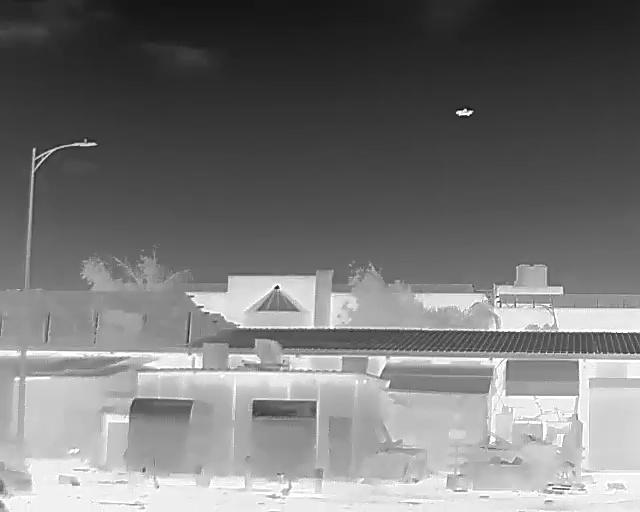fpv-drone: (456, 108, 473, 116)
